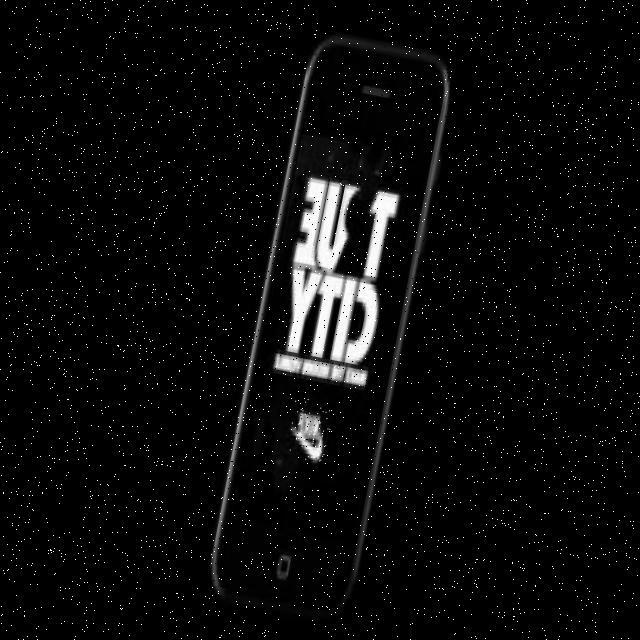Nike: (284, 397, 338, 466)
